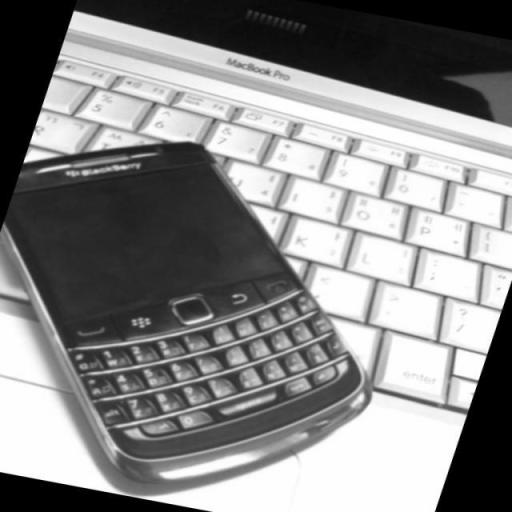phone: (7, 124, 382, 491)
